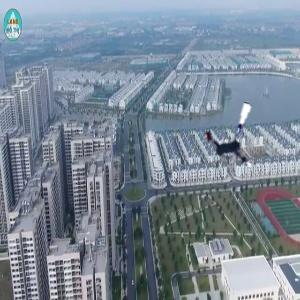drone: (189, 98, 267, 176)
